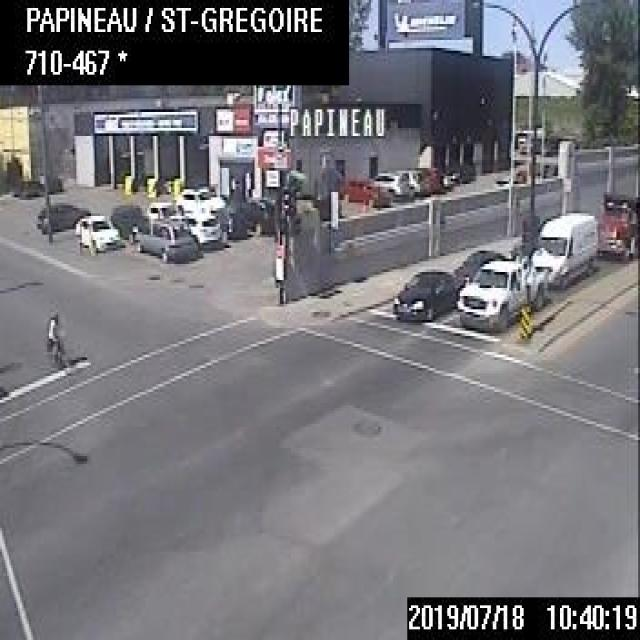pedestrian: (40, 309, 62, 371)
vehicle: (454, 256, 548, 330), (527, 207, 597, 289), (387, 264, 456, 322), (595, 190, 637, 262), (132, 217, 199, 261), (451, 245, 506, 282), (72, 212, 120, 252), (34, 201, 89, 233), (108, 200, 148, 242), (180, 210, 222, 250), (244, 192, 284, 232), (344, 175, 390, 205), (370, 168, 409, 198), (213, 204, 244, 239), (174, 186, 209, 216), (142, 198, 178, 216)
